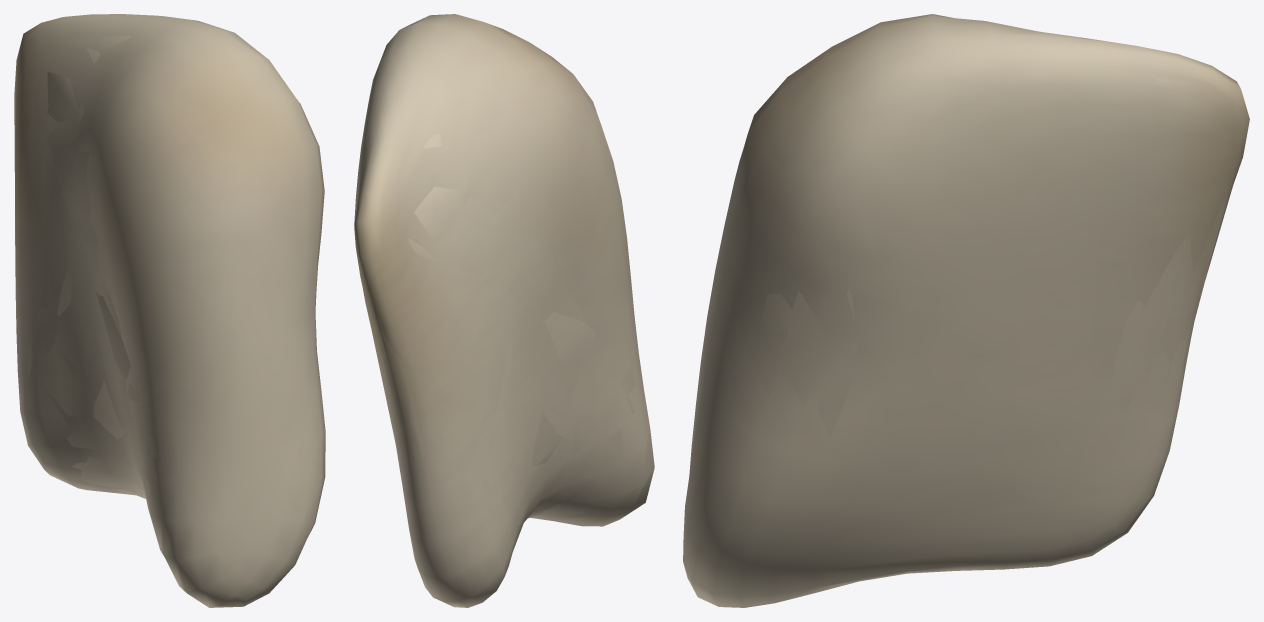
The model's file is R tarsi secundum.fbx.
3 renders of one model, left to right at view 1: azimuth 30°, elevation 25°; view 2: azimuth 150°, elevation 25°; view 3: azimuth 270°, elevation 25°, orthographic. The views are drawn at different scales.
Visible parts, largest first — view 1: R tarsi secundum high, R tarsi secundum, R tarsi secundum low; view 2: R tarsi secundum high, R tarsi secundum, R tarsi secundum low; view 3: R tarsi secundum high, R tarsi secundum.
Boxes of the visible parts, x1=… form: R tarsi secundum high: x1=14, y1=14, x2=325, y2=607; R tarsi secundum: x1=27, y1=35, x2=317, y2=505; R tarsi secundum low: x1=47, y1=47, x2=130, y2=438; R tarsi secundum high: x1=354, y1=14, x2=654, y2=607; R tarsi secundum: x1=359, y1=89, x2=635, y2=552; R tarsi secundum low: x1=414, y1=133, x2=596, y2=466; R tarsi secundum high: x1=683, y1=14, x2=1249, y2=607; R tarsi secundum: x1=693, y1=78, x2=1235, y2=464.
Bounding box in the file's own units: 1.27 × 3.19 × 2.68.
